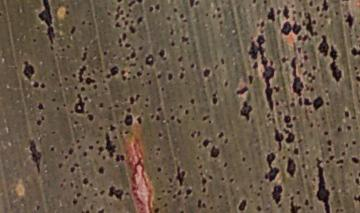tarspot: (256, 29, 276, 116), (313, 154, 332, 213), (35, 1, 58, 44), (288, 53, 304, 97), (328, 41, 343, 85), (263, 147, 279, 181), (20, 57, 37, 82), (106, 182, 125, 202), (103, 133, 117, 160), (315, 32, 329, 59), (238, 98, 254, 121), (283, 156, 299, 179), (172, 163, 188, 186), (72, 90, 85, 117), (280, 21, 303, 36), (270, 182, 284, 206), (311, 92, 325, 113), (245, 40, 258, 61), (282, 126, 297, 144), (271, 123, 282, 145), (102, 66, 122, 78), (144, 50, 156, 69), (342, 10, 354, 29), (236, 197, 250, 213), (263, 6, 276, 23), (200, 64, 213, 80), (208, 147, 222, 161), (122, 113, 135, 128), (281, 2, 291, 21), (208, 91, 221, 105), (243, 71, 256, 84), (182, 186, 195, 199), (348, 45, 360, 59), (156, 46, 168, 59), (348, 154, 360, 167), (320, 1, 333, 13), (83, 76, 97, 87), (35, 101, 47, 113), (79, 176, 92, 187), (65, 144, 76, 157), (45, 143, 58, 154), (127, 24, 138, 37), (67, 23, 77, 37), (164, 70, 174, 83), (213, 129, 226, 139), (200, 136, 211, 147), (281, 113, 293, 123), (153, 165, 165, 175), (290, 144, 300, 156), (96, 163, 104, 177), (85, 112, 95, 123), (106, 122, 117, 132), (250, 59, 260, 70), (33, 118, 44, 128), (114, 154, 126, 163), (333, 123, 343, 133), (301, 95, 310, 106), (96, 99, 105, 110), (343, 106, 350, 120), (325, 137, 334, 147), (121, 30, 128, 42), (39, 82, 47, 92), (32, 80, 39, 91)
